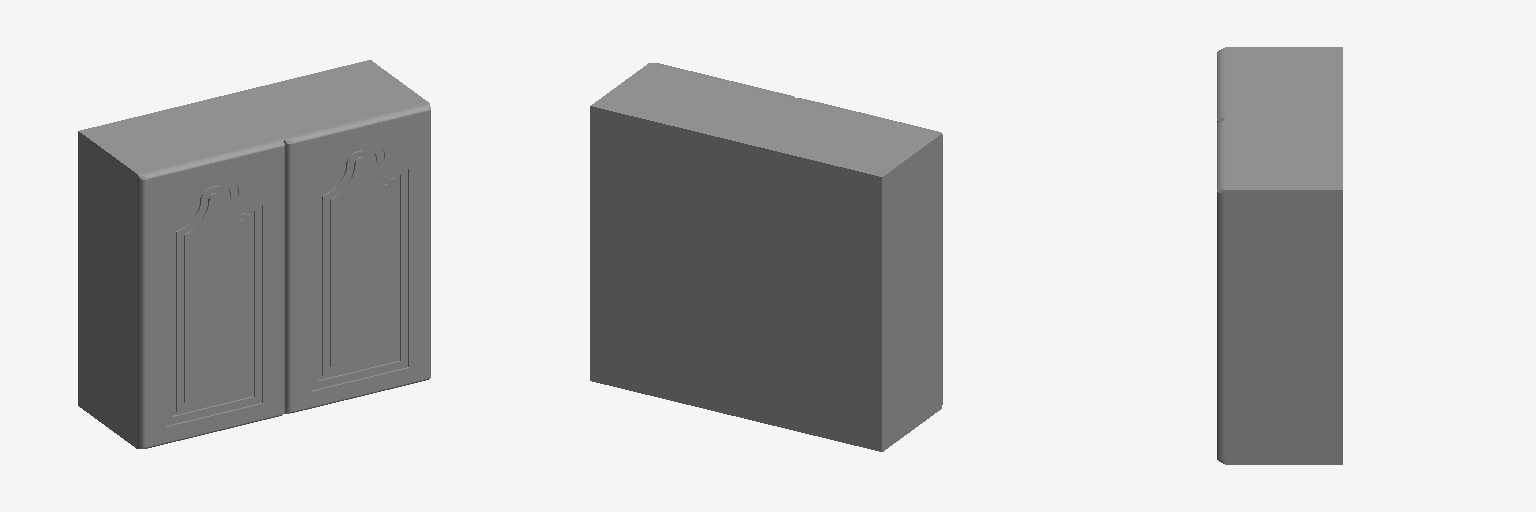
Rendered from double-wall-unit-800.obj.
3 renders of one model, left to right at view 1: azimuth 30°, elevation 25°; view 2: azimuth 150°, elevation 25°; view 3: azimuth 270°, elevation 25°, orthographic.
Visible parts, largest first — view 1: Cube.003_Cube.008, Cube.004_Cube.000, Cube.002_Cube.004, Cube_Cube.002; view 2: Cube_Cube.002, Cube.002_Cube.004, Cube.001_Cube.003, Cube.003_Cube.008; view 3: Cube.001_Cube.003, Cube_Cube.002, Cube.004_Cube.000, Cube.003_Cube.008.
Boxes of the visible parts, box(x1,y1,x2,y2) form: Cube.003_Cube.008: box(137, 139, 284, 448); Cube.004_Cube.000: box(283, 103, 430, 413); Cube.002_Cube.004: box(78, 130, 141, 448); Cube_Cube.002: box(84, 61, 422, 172); Cube_Cube.002: box(596, 64, 934, 450); Cube.002_Cube.004: box(877, 133, 940, 451); Cube.001_Cube.003: box(590, 63, 653, 381); Cube.003_Cube.008: box(796, 98, 942, 408); Cube.001_Cube.003: box(1225, 187, 1342, 464); Cube_Cube.002: box(1225, 50, 1342, 186); Cube.004_Cube.000: box(1217, 119, 1224, 463); Cube.003_Cube.008: box(1217, 48, 1224, 122).
Size of the model in its own units: 160 by 144 by 60.